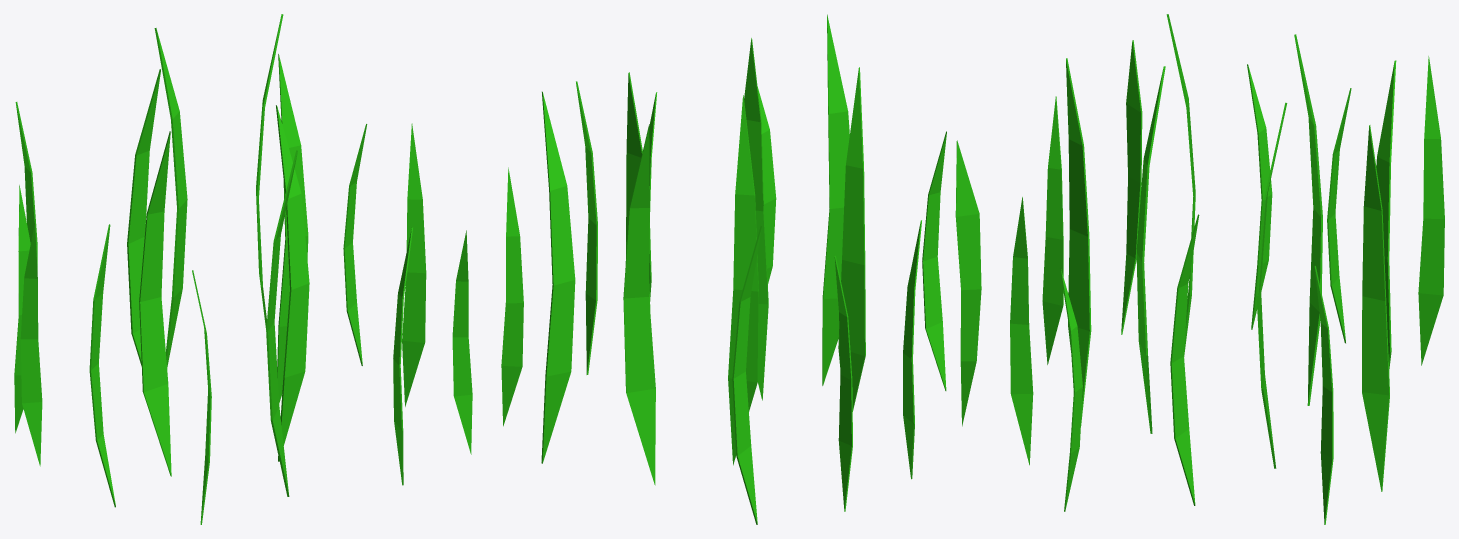
Rendered from Grass.fbx.
3 renders of one model, left to right at view 1: azimuth 30°, elevation 25°; view 2: azimuth 150°, elevation 25°; view 3: azimuth 270°, elevation 25°, orthographic. The views are drawn at different scales.
Parts seen in each view (by area): view 1: Grass; view 2: Grass; view 3: Grass.
Part boxes in pixels (x1,y1,x2,y2): Grass: [14, 14, 472, 524]; Grass: [501, 14, 981, 524]; Grass: [1010, 14, 1444, 524].
Size of the model in its own units: 43.99 by 41.18 by 42.75.
